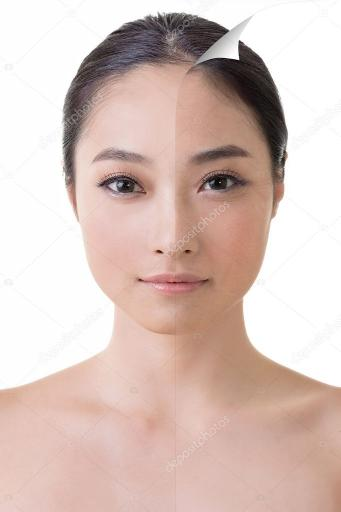left_eye: (198, 174, 249, 202)
left_lip_corner: (201, 276, 216, 291)
right_eye: (99, 179, 149, 205)
right_lip_corner: (135, 274, 149, 291)
